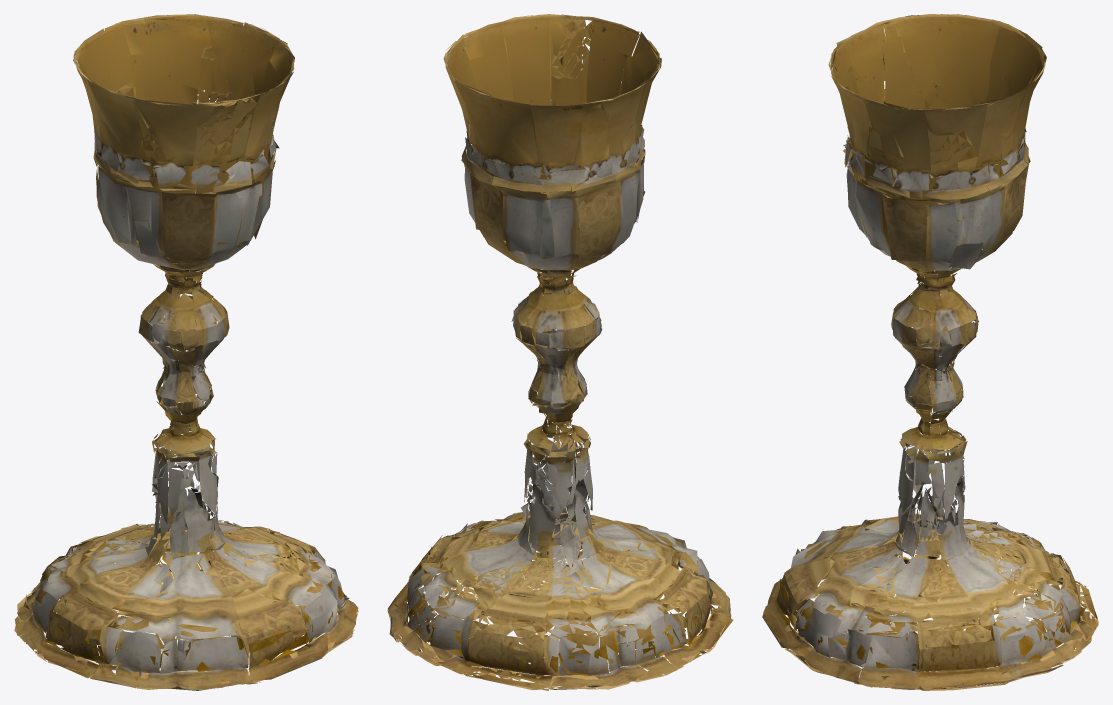
Rendered from chalice.glb.
3 views of the same model, side by side, from view 1: azimuth 30°, elevation 25°; view 2: azimuth 150°, elevation 25°; view 3: azimuth 270°, elevation 25° (orthographic).
Parts seen in each view (by area): view 1: Object_2, Object_3, Object_4; view 2: Object_3, Object_2, Object_4; view 3: Object_3, Object_2, Object_4.
Part boxes in pixels (<box>): Object_2: <box>14,20,357,690</box>; Object_3: <box>29,14,358,688</box>; Object_4: <box>23,295,229,609</box>; Object_3: <box>387,14,728,690</box>; Object_2: <box>394,17,733,690</box>; Object_4: <box>513,294,654,687</box>; Object_3: <box>782,14,1094,690</box>; Object_2: <box>762,24,1098,676</box>; Object_4: <box>891,295,1068,584</box>.
Bounding box in the file's own units: 16.77 × 30.19 × 16.36.
Materials: 1 (1 with a texture image).
